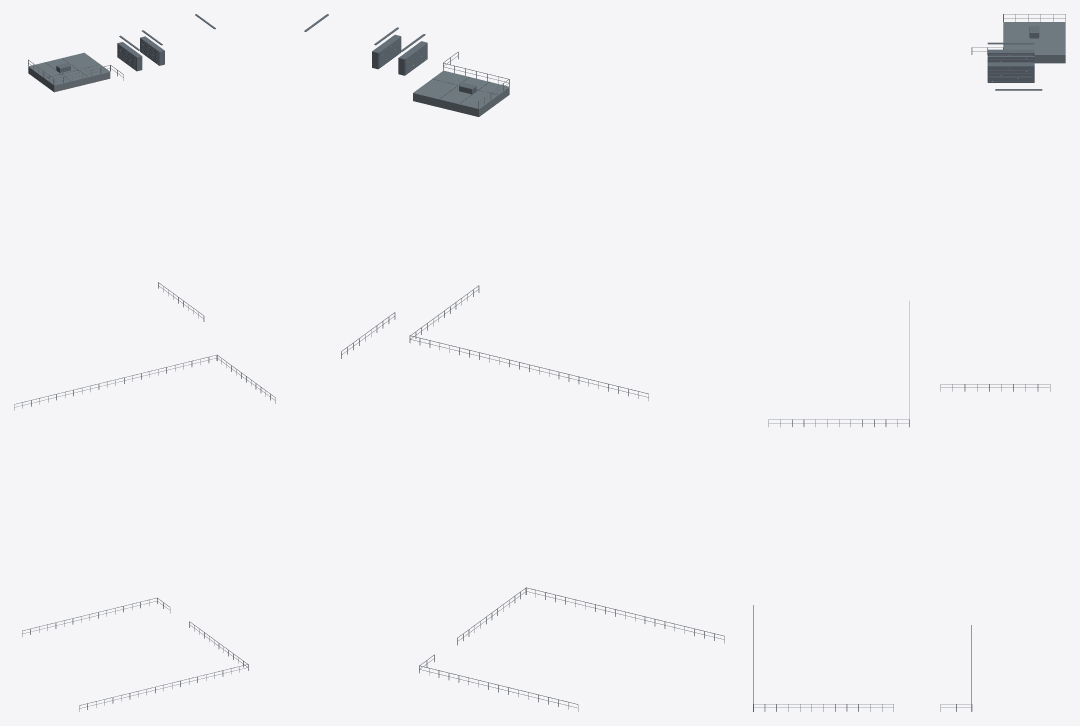
3 renders of one model, left to right at view 1: azimuth 30°, elevation 25°; view 2: azimuth 150°, elevation 25°; view 3: azimuth 270°, elevation 25°, orthographic. The views are drawn at different scales.
Parts seen in each view (by area): view 1: pm1_0; view 2: pm1_0; view 3: pm1_0.
Boxes of the visible parts, x1,y1,x2,y2 form: pm1_0: (14, 14, 275, 711); pm1_0: (304, 14, 724, 711); pm1_0: (753, 14, 1065, 711).
Bounding box in the file's own units: 42.18 × 93.52 × 40.06.
